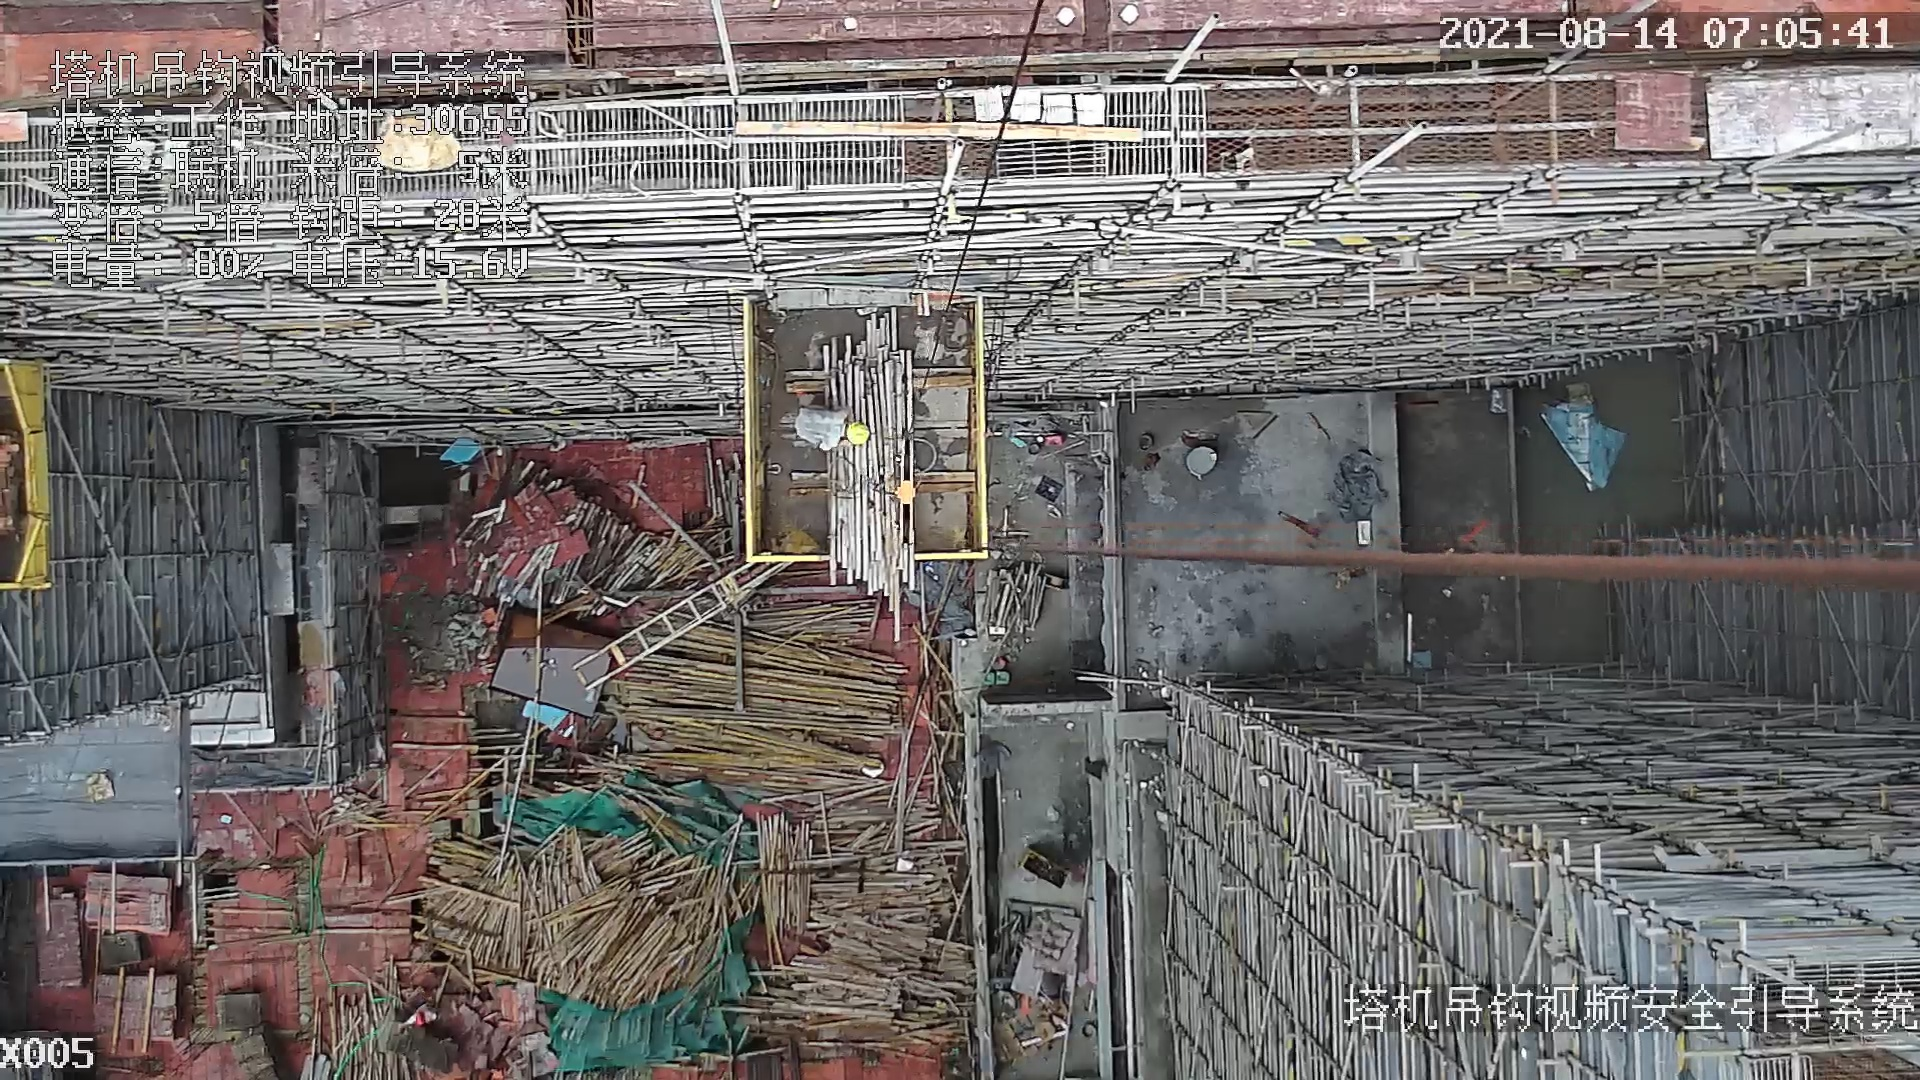helmet: (846, 420, 869, 445)
hook: (872, 431, 923, 564)
person: (796, 408, 872, 450)
